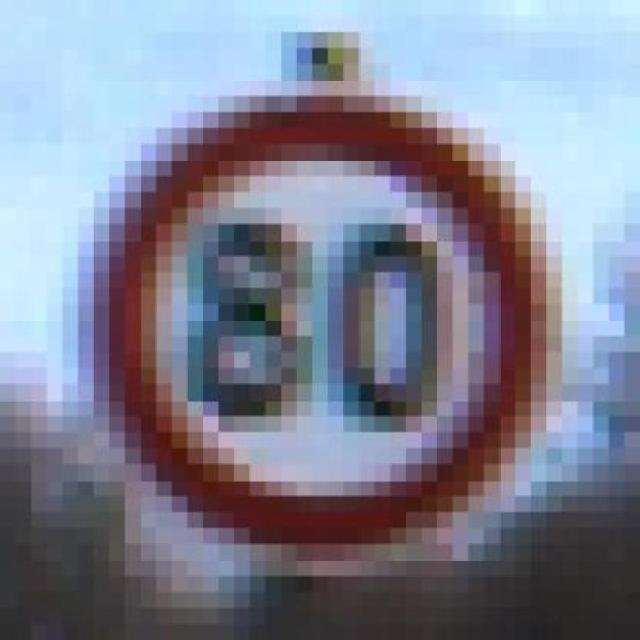forb_speed_over_80: (111, 96, 542, 544)
